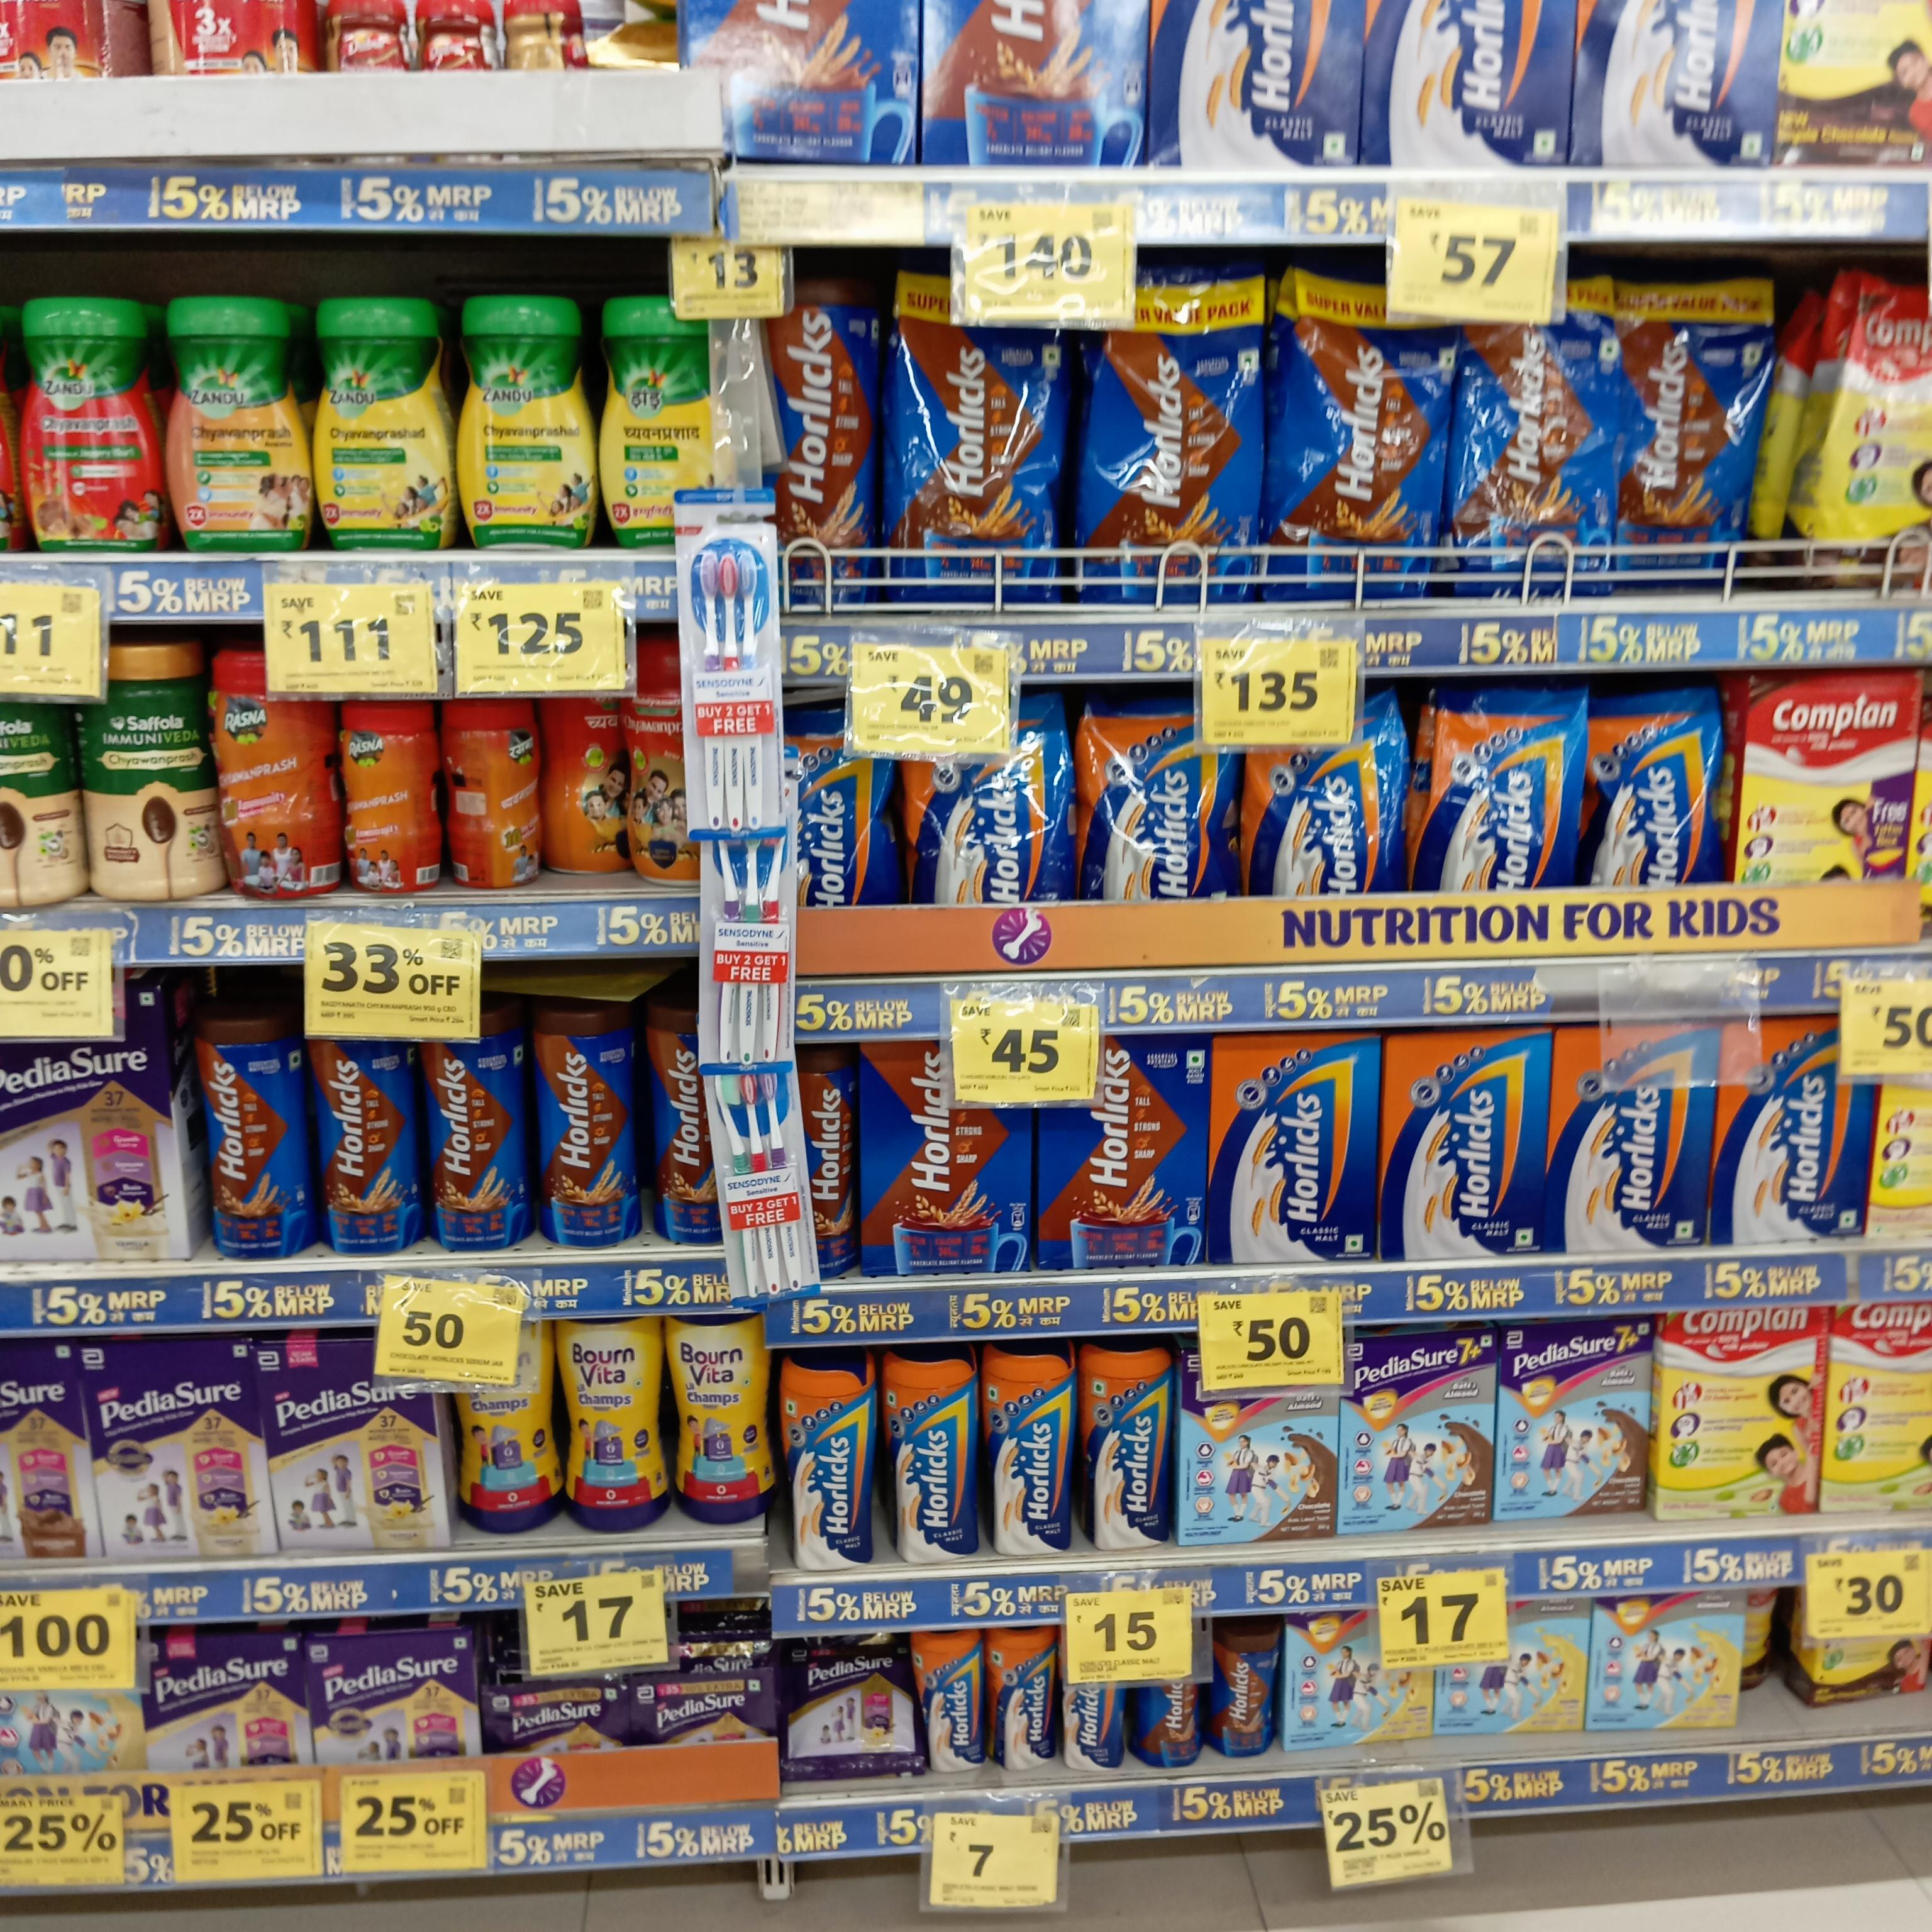BOURN_VITA_CHAMPS_500_G_JAR: (559, 1315, 667, 1532), (672, 1313, 766, 1527)
COMPLAN_CHOCOLATE_500_GMS_PACK: (1744, 672, 1913, 883)
COMPLAN_PISTA_BADAM_500_GMS_PACK: (1665, 1307, 1817, 1523), (1828, 1300, 1932, 1511)
HORLICK_CHOCOLATE_1_KG_JAR: (768, 276, 872, 612)
HORLICK_CHOCOLATE_200_G_JAR: (1215, 1624, 1281, 1762)
HORLICK_CHOCOLATE_500_G_JAR: (536, 1003, 637, 1246), (430, 1005, 524, 1258), (202, 1008, 295, 1261), (318, 1028, 410, 1247), (646, 1005, 720, 1246)
HORLICK_CHOCOLATE_500_G_PACK: (1042, 1035, 1205, 1272), (863, 1040, 1023, 1274)
HORLICK_CHOCOLATE_750_G_POUCH: (888, 269, 1063, 602), (1090, 276, 1258, 605), (1283, 281, 1435, 596), (1615, 278, 1759, 589), (1458, 315, 1610, 596)
HORLICK_CLASSIC_MALT_200_G_JAR: (987, 1628, 1053, 1767), (918, 1635, 982, 1776)
HORLICK_CLASSIC_MALT_500_G_JAR: (780, 1357, 876, 1575), (980, 1343, 1067, 1557), (888, 1355, 975, 1568), (1085, 1343, 1168, 1550)
HORLICK_CLASSIC_MALT_500_G_PACK: (1214, 1035, 1375, 1263), (1385, 1035, 1545, 1265), (1553, 1030, 1711, 1253), (1723, 1014, 1872, 1240)
HORLICK_CLASSIC_MALT_750_G_POUCH: (1428, 690, 1582, 895), (1083, 701, 1235, 899), (1591, 697, 1727, 886)
PEDIASURE_7_PLUS_CHOCOLATE_400_G_PACK: (1346, 1339, 1491, 1532), (1502, 1325, 1645, 1518)
PEDIASURE_VANILLA_500_G_PACK: (88, 1339, 262, 1560), (267, 1345, 432, 1562)
